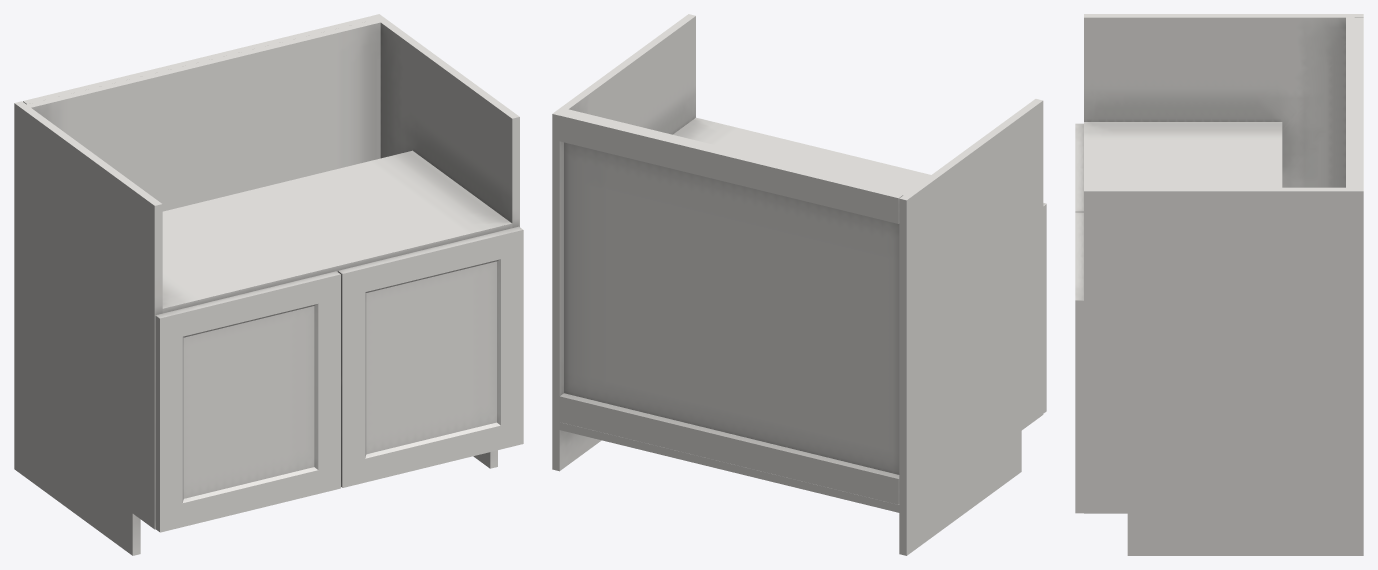
File: farm-sink-base-doors-on.glb
3 views of the same model, side by side, from view 1: azimuth 30°, elevation 25°; view 2: azimuth 150°, elevation 25°; view 3: azimuth 270°, elevation 25° (orthographic). The views are drawn at different scales.
Parts seen in each view (by area): view 1: part_0, part_13; view 2: part_0, part_13; view 3: part_0, part_13.
Part boxes in pixels (box(x1,y1,x2,y2)): part_0: box(14, 14, 519, 555); part_13: box(155, 226, 523, 532); part_0: box(552, 14, 1043, 555); part_13: box(1043, 203, 1046, 413); part_0: box(1084, 14, 1363, 555); part_13: box(1075, 123, 1083, 513).
Bounding box in the file's own units: 0.9144 × 0.8763 × 0.6287.
Materials: 2 (2 with a texture image).
